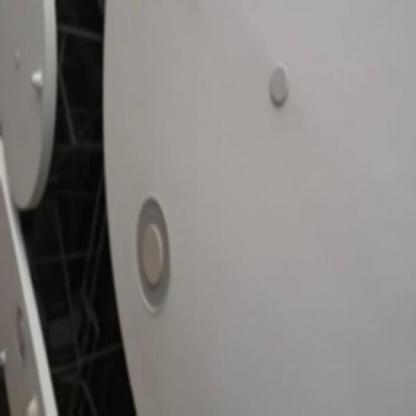light_off: (126, 170, 186, 339), (10, 287, 38, 370)
